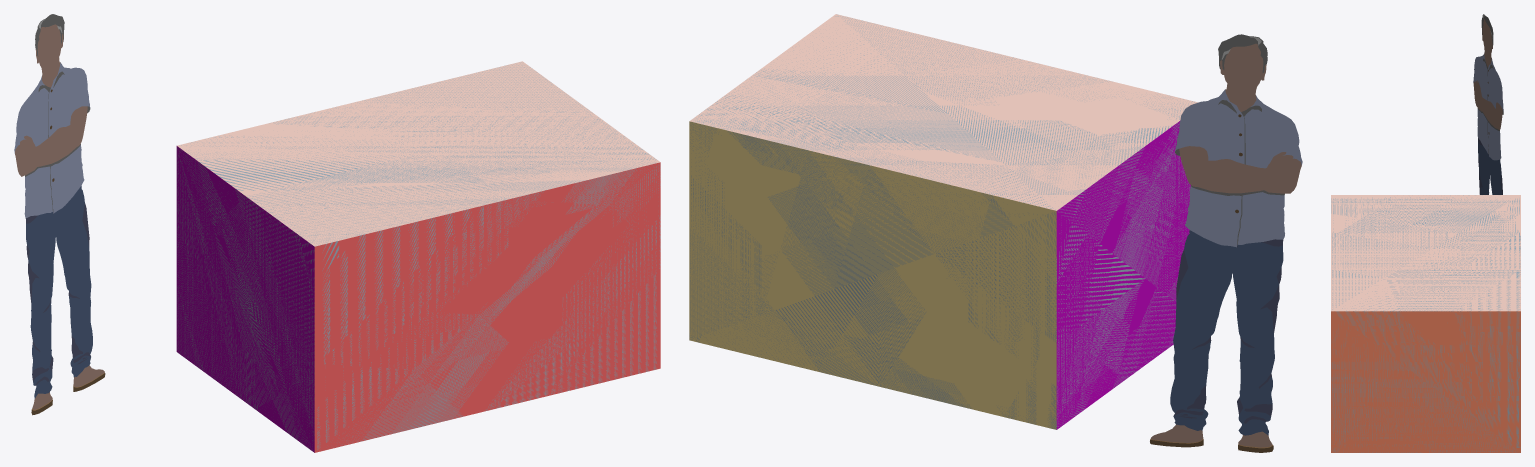
The model's file is angelo.dae.
3 views of the same model, side by side, from view 1: azimuth 30°, elevation 25°; view 2: azimuth 150°, elevation 25°; view 3: azimuth 270°, elevation 25° (orthographic). The views are drawn at different scales.
Parts seen in each view (by area): view 1: SketchUp (×3), Niraj (×7); view 2: SketchUp (×3), Niraj (×9); view 3: SketchUp (×2), Niraj (×7).
Boxes of the visible parts, left/top/right/bottom form: SketchUp (×3): left=176, top=61, right=660, bottom=452; Niraj (×7): left=14, top=24, right=92, bottom=398; SketchUp (×3): left=689, top=14, right=1198, bottom=429; Niraj (×9): left=1150, top=34, right=1302, bottom=442; SketchUp (×2): left=1331, top=195, right=1520, bottom=452; Niraj (×7): left=1473, top=19, right=1503, bottom=194.
Size of the model in its own units: 102 by 44.88 by 70.5.
